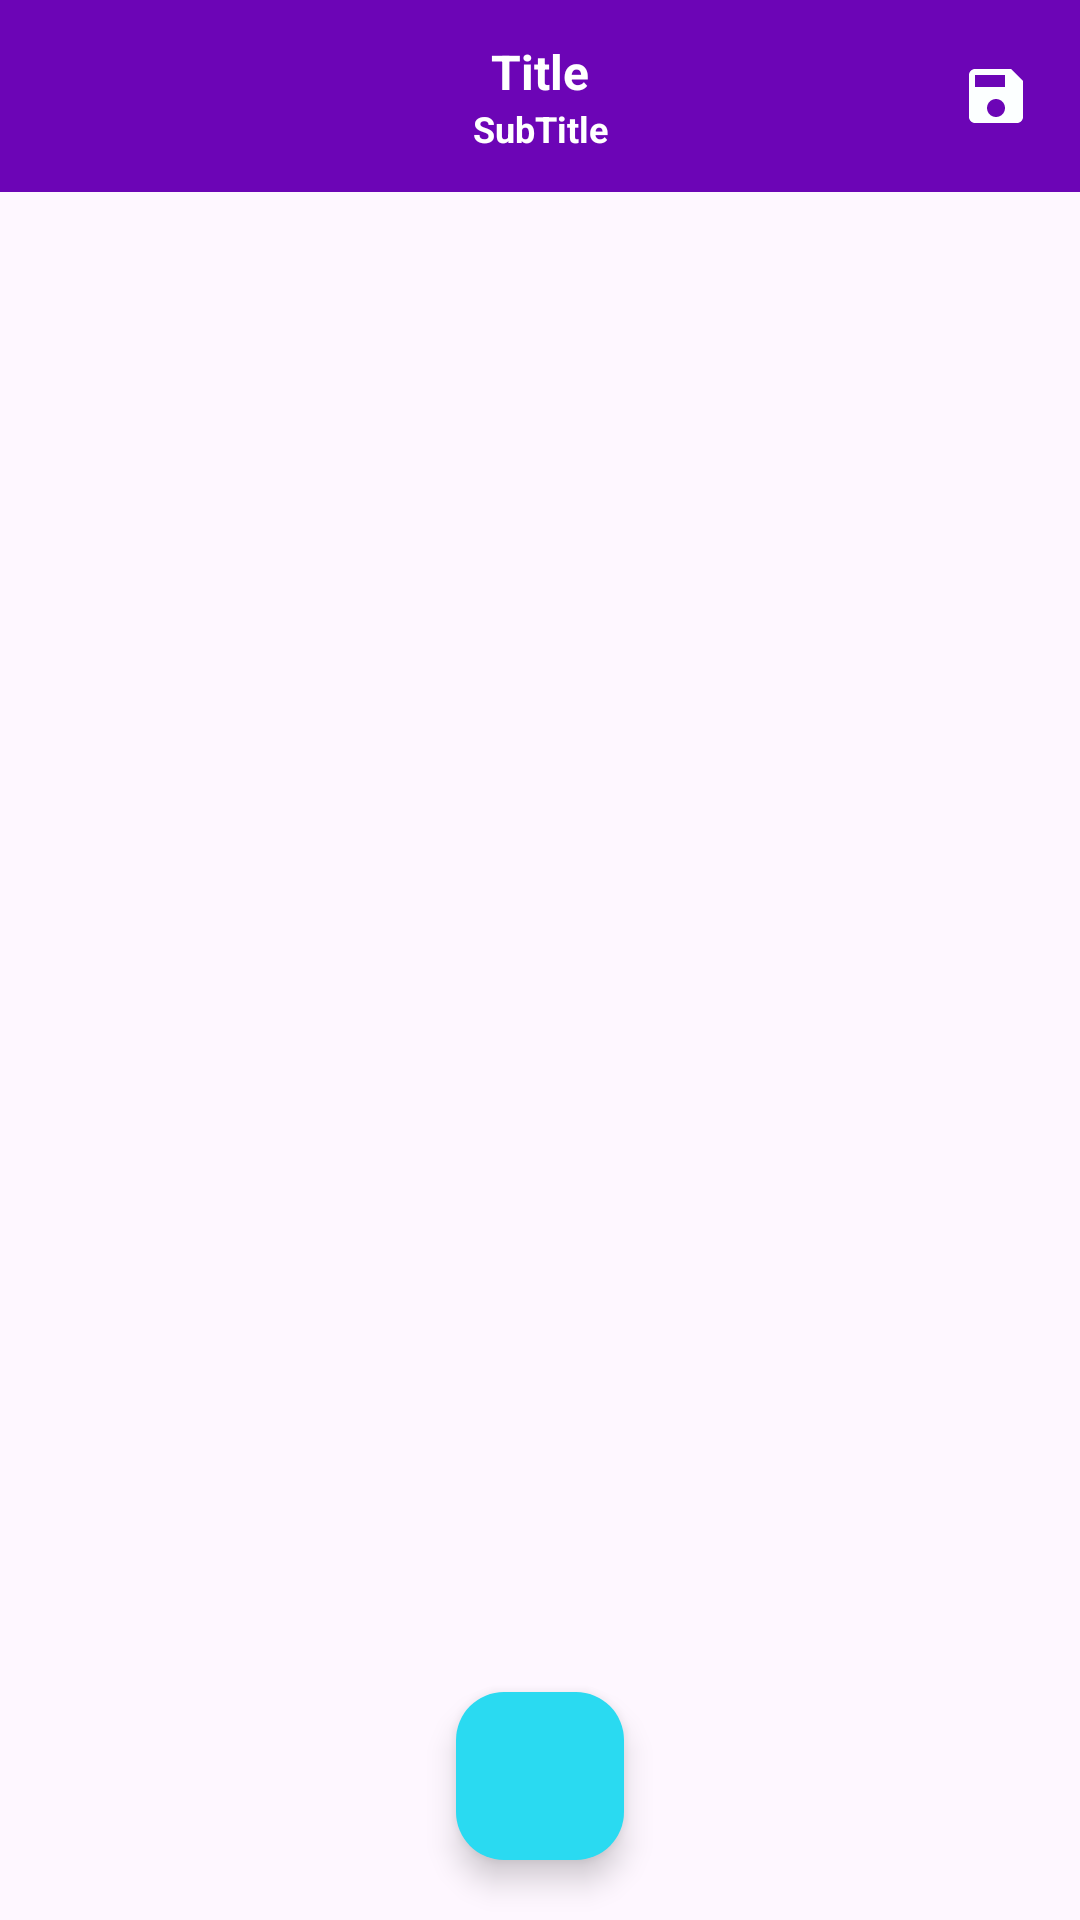

Named icons in this screenshot (1080 x 1920) and their centers, (x=x, y=y):
save: (x=996, y=96)
